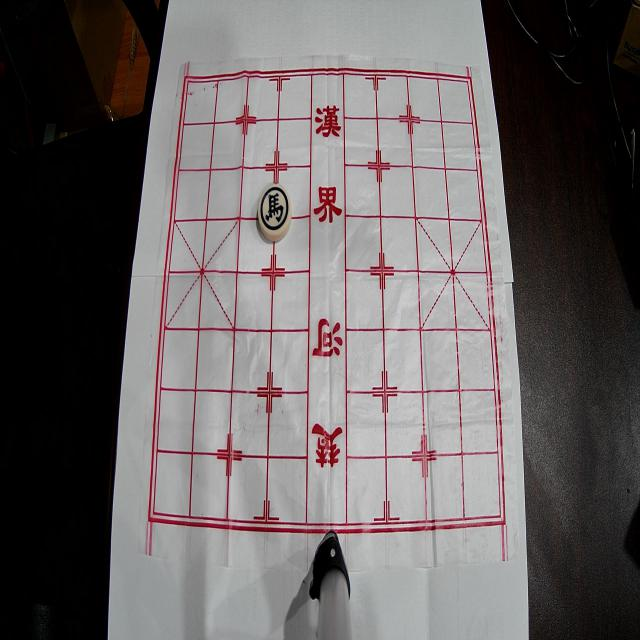black-horse: (258, 184, 292, 242)
